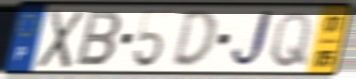5: (131, 8, 178, 71)
B: (73, 9, 125, 69)
D: (169, 8, 218, 71)
J: (228, 8, 276, 72)
Q: (268, 10, 313, 70)
X: (35, 7, 88, 72)
